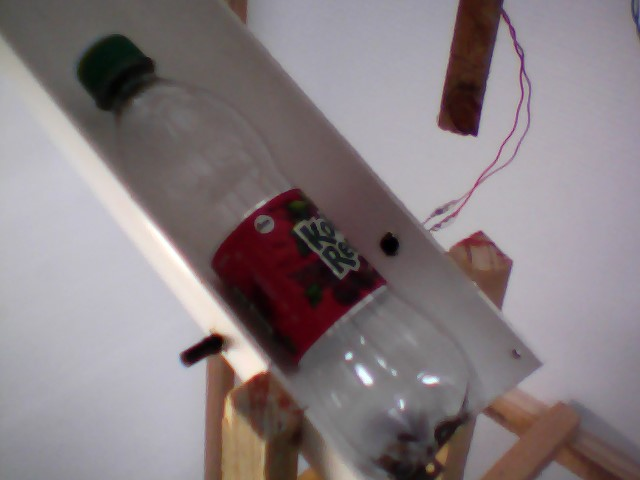plastico: (70, 22, 484, 480)
